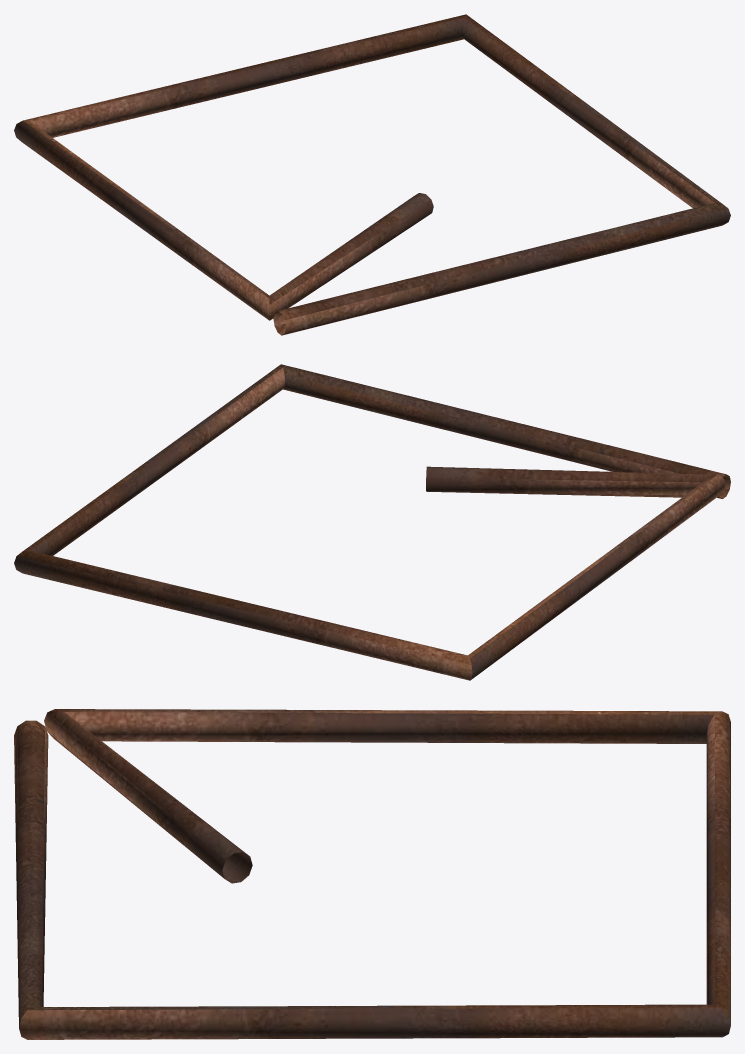
File: EST-ARM-001.glb
3 views of the same model, one above another, from view 1: azimuth 30°, elevation 25°; view 2: azimuth 150°, elevation 25°; view 3: azimuth 270°, elevation 25° (orthographic). The views are drawn at different scales.
Parts seen in each view (by area): view 1: Estribo 10x10 Ø5; view 2: Estribo 10x10 Ø5; view 3: Estribo 10x10 Ø5.
Boxes of the visible parts, <box> form: Estribo 10x10 Ø5: <box>14,14,730,335</box>; Estribo 10x10 Ø5: <box>14,364,730,680</box>; Estribo 10x10 Ø5: <box>14,709,730,1039</box>.
Bounding box in the file's own units: 0.1035 × 0.00688 × 0.1043.
1 material, 1 textured.
